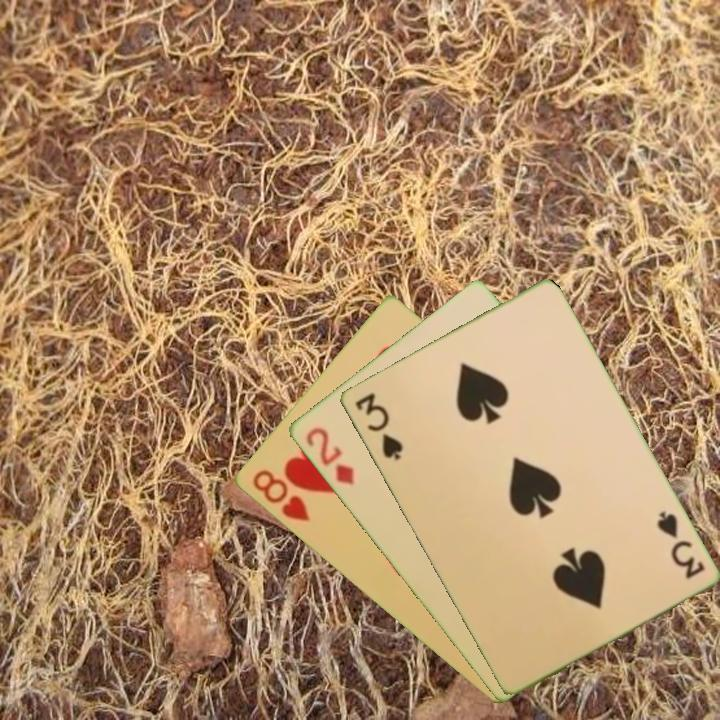2d: (301, 423, 357, 488)
3s: (652, 507, 707, 582), (351, 389, 406, 463)
8h: (248, 466, 312, 525)
